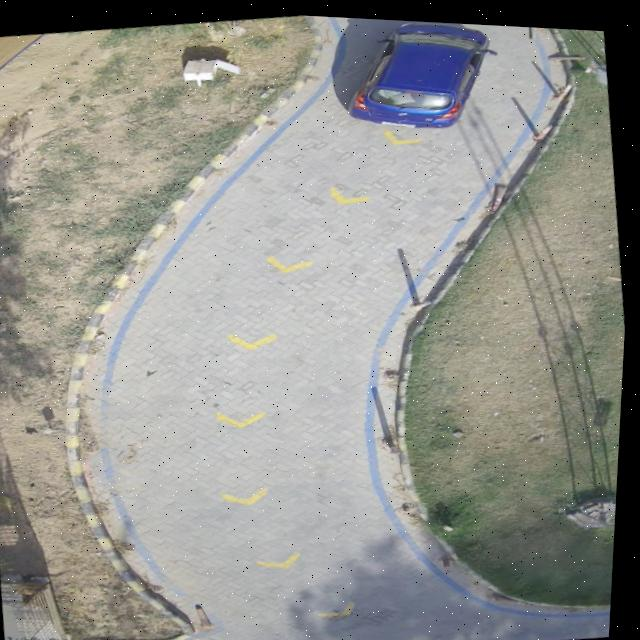car: (348, 17, 496, 124)
